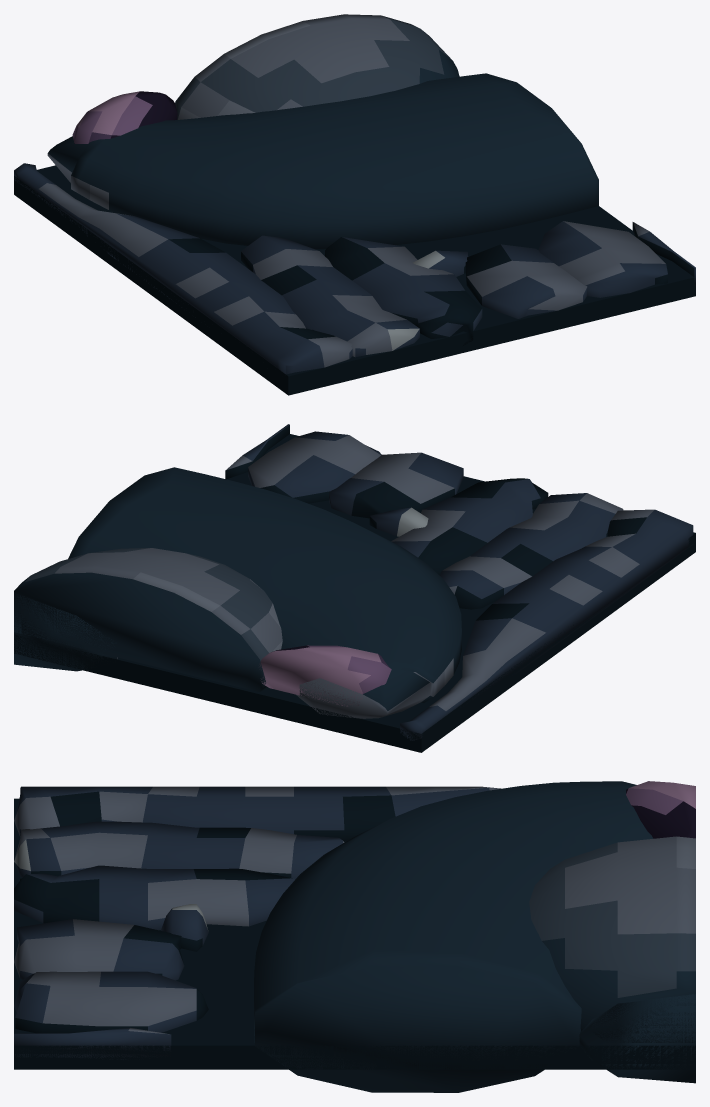
File: newshh-123.glb
3 renders of one model, top to bottom at view 1: azimuth 30°, elevation 25°; view 2: azimuth 150°, elevation 25°; view 3: azimuth 270°, elevation 25°, orthographic. The views are drawn at different scales.
Visible parts, largest first — view 1: newshh-123; view 2: newshh-123; view 3: newshh-123.
Boxes of the visible parts, x1=… form: newshh-123: x1=14, y1=14, x2=695, y2=395; newshh-123: x1=14, y1=424, x2=695, y2=752; newshh-123: x1=14, y1=781, x2=695, y2=1092.
Bounding box in the file's own units: 2 × 0.5881 × 2.33.
